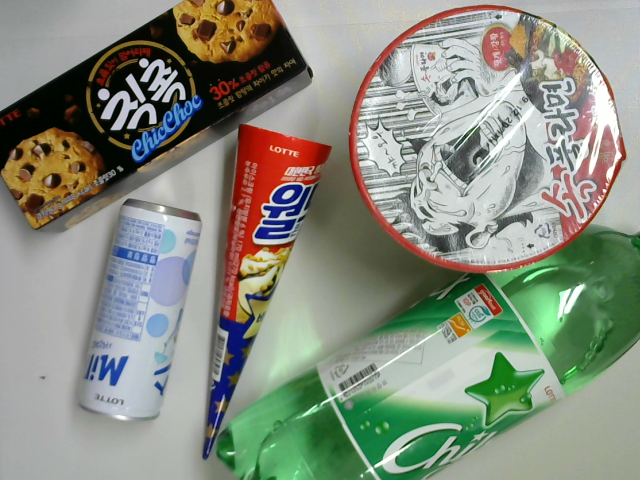Chicchok_Original_2400: (2, 1, 330, 240)
Chilseong_Cider_1.5L: (205, 213, 638, 480)
Hejangpul: (344, 7, 626, 268)
Milkies_250ml: (74, 192, 204, 433)
World_Cone_Banila: (193, 119, 334, 465)
